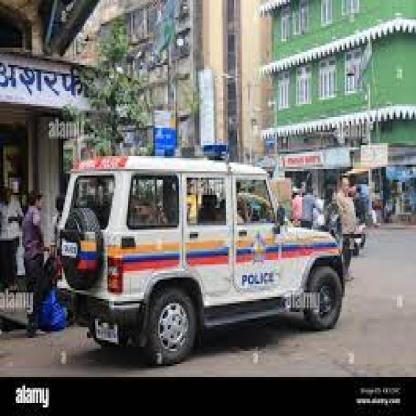priority: (53, 134, 352, 364)
